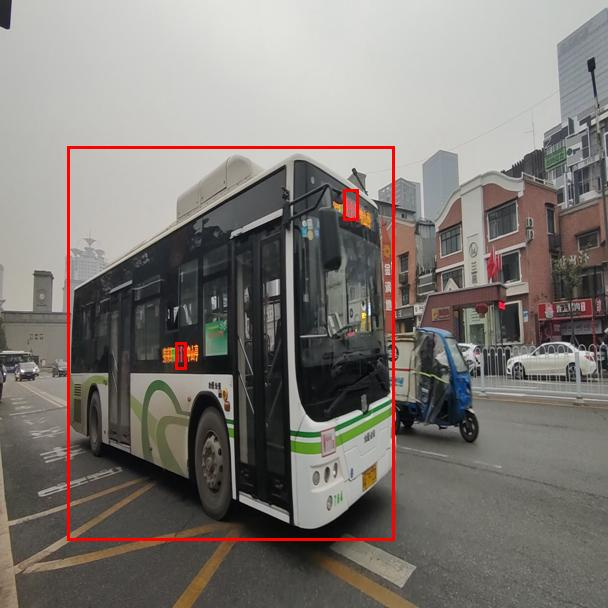bus: (67, 146, 394, 540)
screen: (343, 189, 358, 220), (175, 342, 186, 369)
